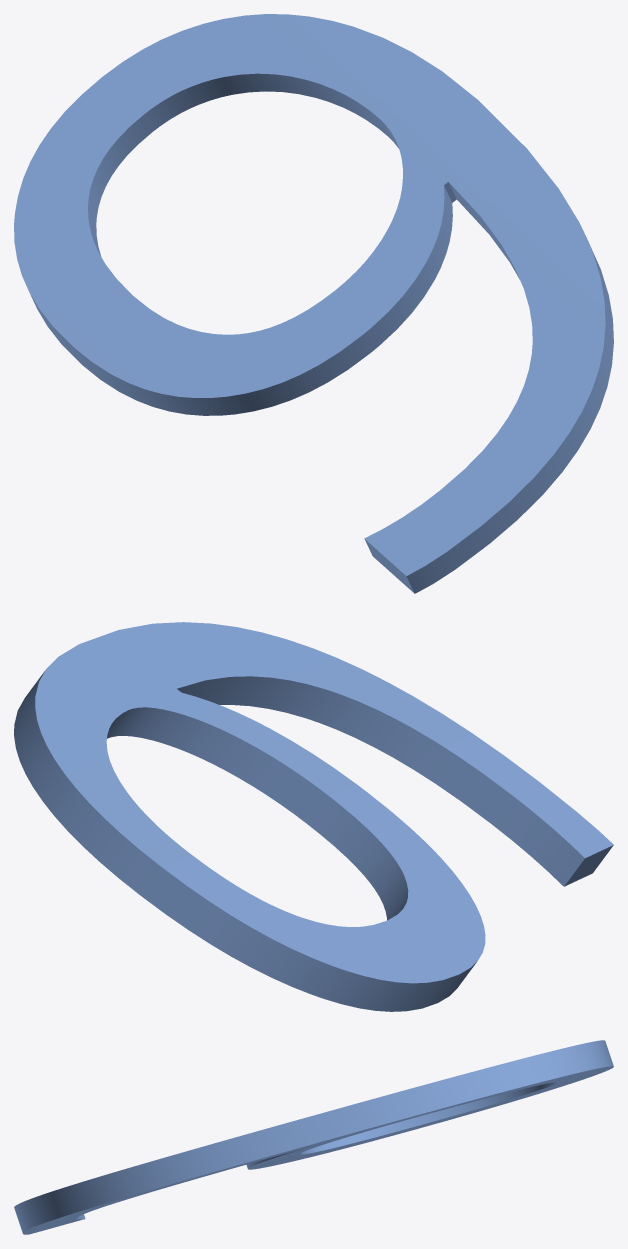
File: New_Number_9.gltf
3 views of the same model, one above another, from view 1: azimuth 30°, elevation 25°; view 2: azimuth 150°, elevation 25°; view 3: azimuth 270°, elevation 25° (orthographic). The views are drawn at different scales.
Visible parts, largest first — view 1: Part 729; view 2: Part 729; view 3: Part 729.
Boxes of the visible parts, x1,y1,x2,y2 form: Part 729: [14, 14, 613, 593]; Part 729: [14, 622, 613, 1011]; Part 729: [14, 1040, 613, 1234].
Bounding box in the file's own units: 0.00349 × 0.00261 × 0.00555.
